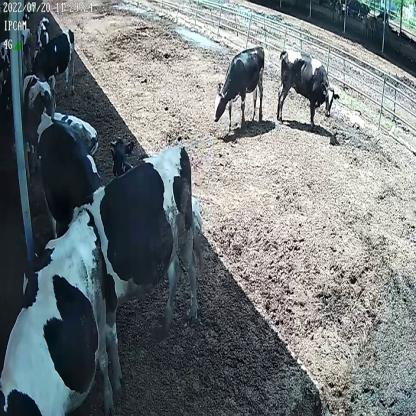cow: (22, 144, 199, 416), (276, 46, 343, 128), (214, 44, 267, 129), (30, 30, 77, 92), (35, 14, 51, 47)
